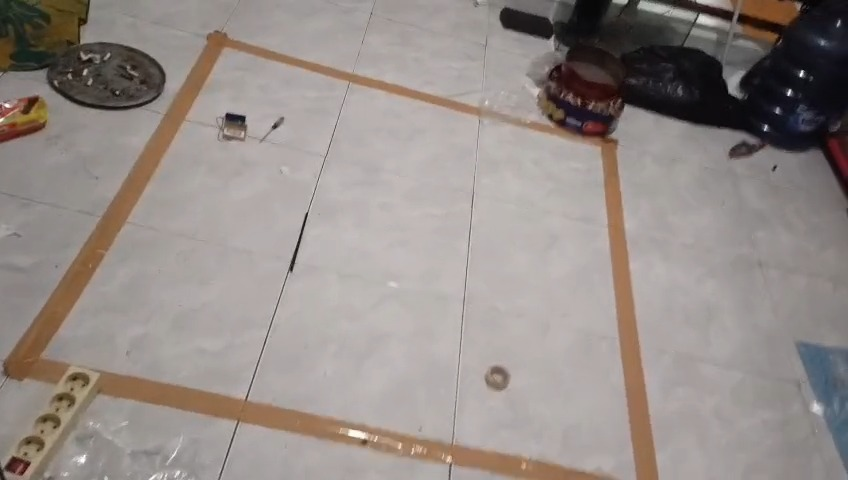floor marking: (4, 32, 482, 382), (491, 113, 656, 479), (101, 371, 602, 479)
